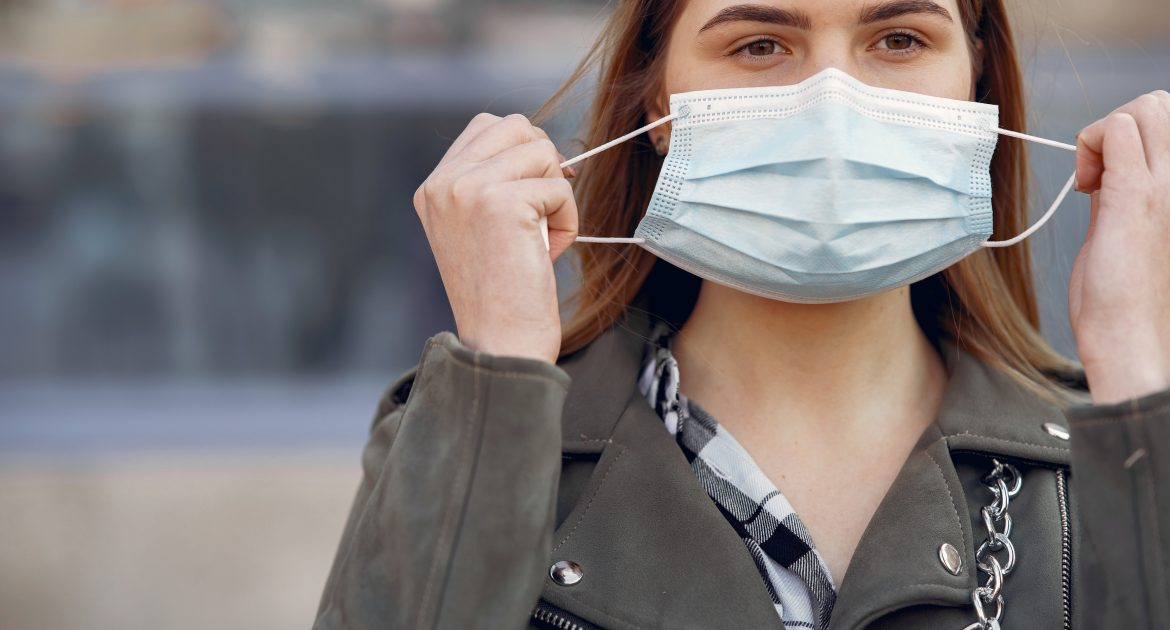barbijo: (530, 62, 1093, 292)
